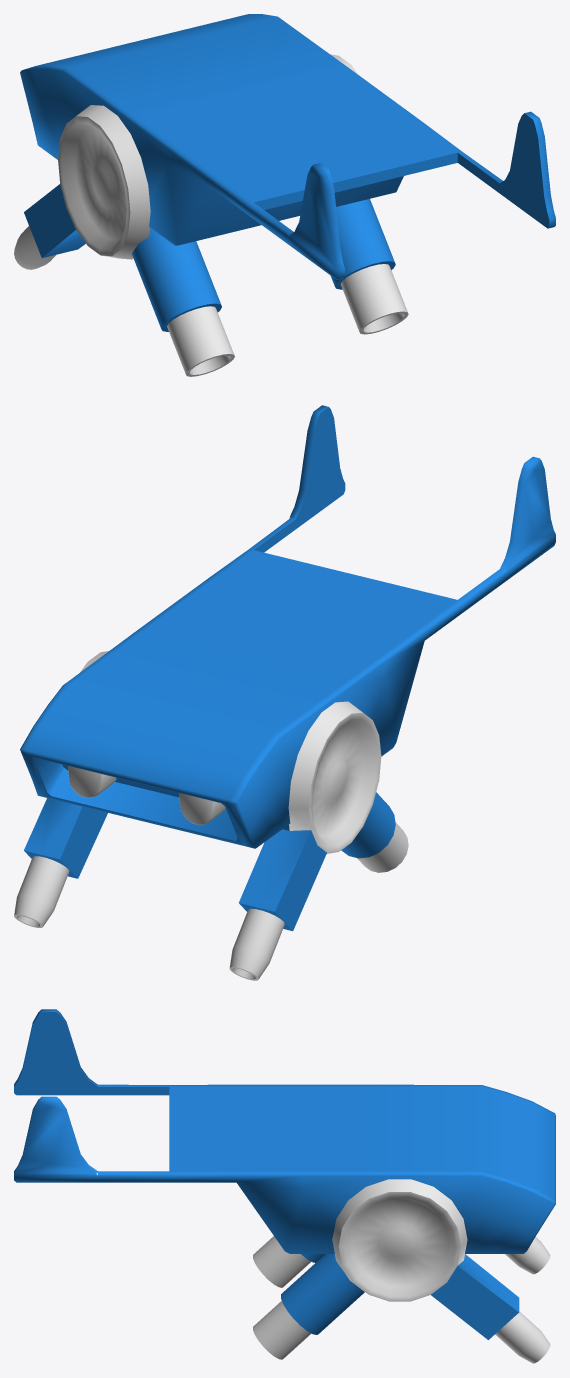
Rendered from Enemy.gltf.
3 renders of one model, top to bottom at view 1: azimuth 30°, elevation 25°; view 2: azimuth 150°, elevation 25°; view 3: azimuth 270°, elevation 25°, orthographic. The views are drawn at different scales.
Parts seen in each view (by area): view 1: Box001; view 2: Box001; view 3: Box001.
Boxes of the visible parts, x1,y1,x2,y2 form: Box001: (14, 14, 555, 376); Box001: (14, 405, 555, 980); Box001: (14, 1009, 555, 1363).
Bounding box in the file's own units: 1.48 × 1.77 × 3.27.
